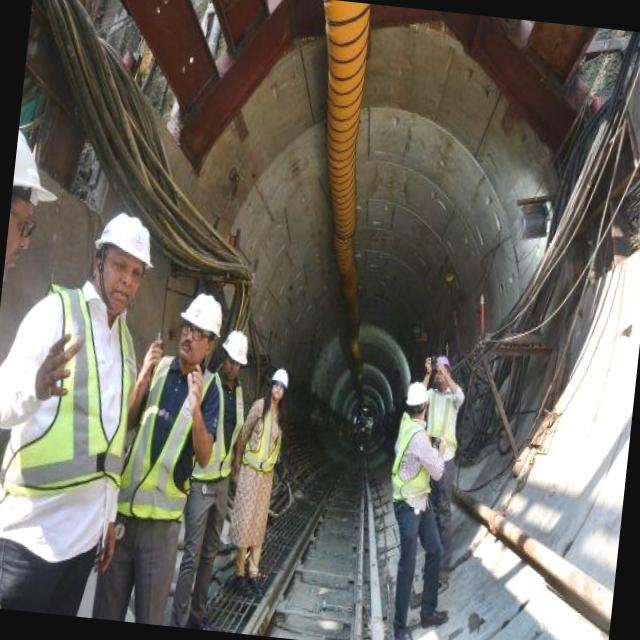helmet: (89, 203, 160, 280), (178, 283, 226, 343), (217, 326, 253, 369), (268, 360, 294, 394), (404, 381, 432, 406)
